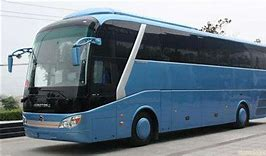bigcar: (8, 6, 261, 144)
